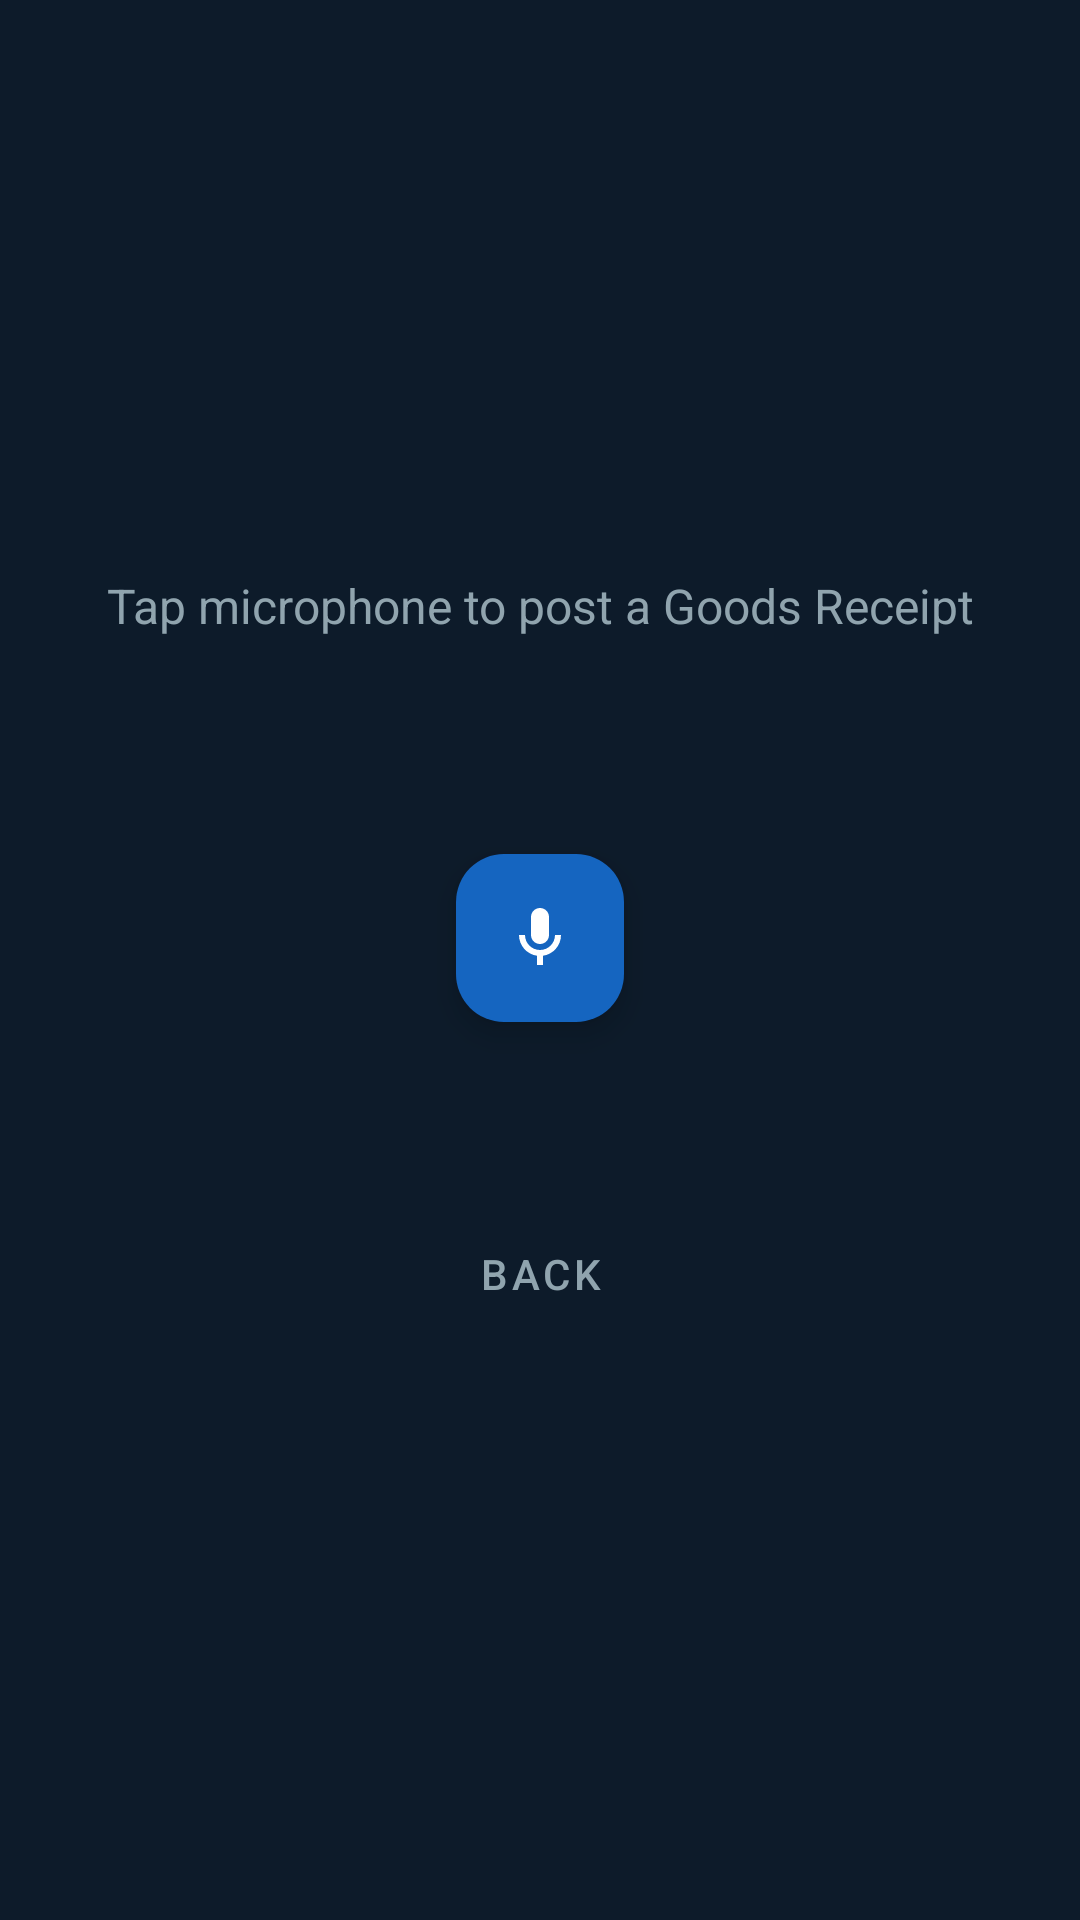

Where icons sit on this 1080w x 1920h app screen, as bbox(x1, y1, x2, y2):
Record voice: bbox(456, 854, 624, 1022)
